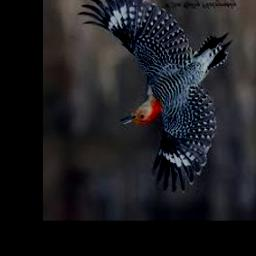Woodpecker: (78, 0, 232, 194)
